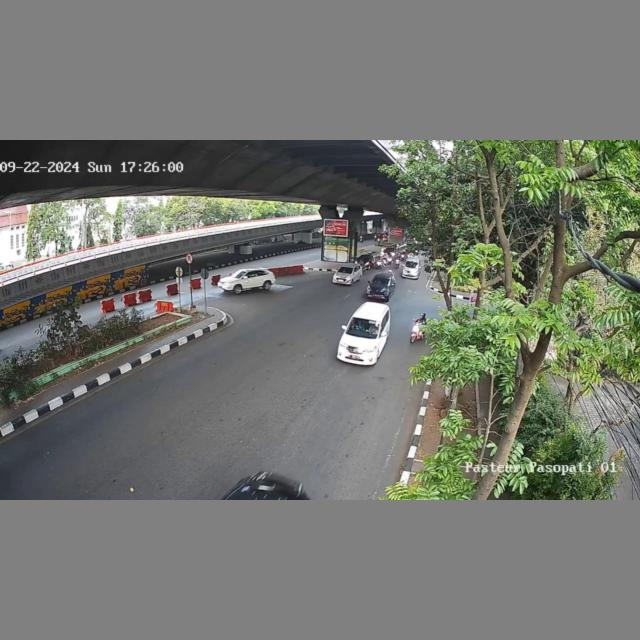windshield: (345, 317, 381, 338)
